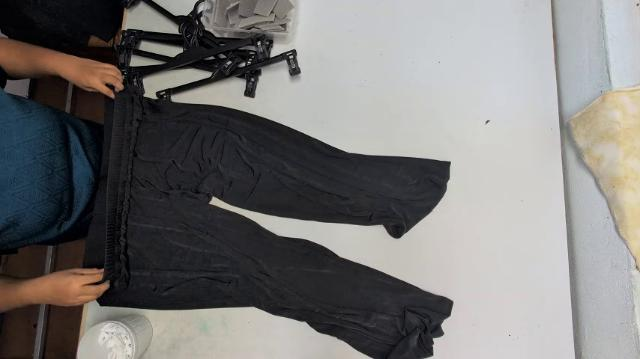new-garment: (86, 88, 451, 359)
